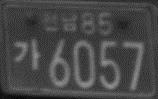0: (73, 39, 96, 88)
3: (98, 39, 121, 90)
5: (98, 11, 115, 37)
6: (49, 39, 72, 86)
7: (121, 39, 145, 92)
8: (79, 11, 98, 36)
가: (12, 34, 43, 73)
전남_O: (41, 11, 78, 33)
